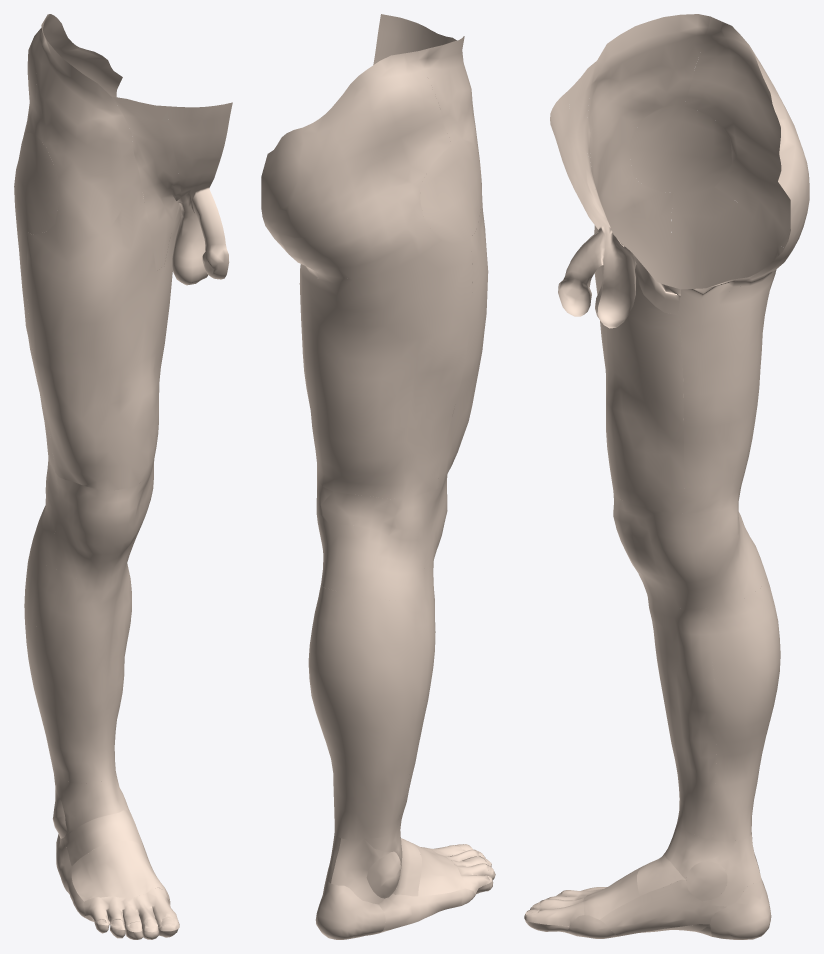
Rendered from skin.glb.
The picture shows the model from 3 angles, left to right: view 1: azimuth 30°, elevation 25°; view 2: azimuth 150°, elevation 25°; view 3: azimuth 270°, elevation 25°; orthographic projection. The views are drawn at different scales.
Parts seen in each view (by area): view 1: Anterior region of thigh.r.001, Anterior region of leg.r.001, Anterior region of knee.r.001, Hypogastric region.r.001, Urogenital region.r.001, Metatarsal region.r.001, Hip region.r.001, Gluteal region.r.001, Inguinal region.r.001, Dorsal surfaces of digits of foot.r.001, Anterior region of ankle.r.001, Femoral triangle.r.001 (+6 smaller); view 2: Posterior region of thigh.r.001, Gluteal region.r.001, Posterior region of leg.r.001, Posterior region of knee.r.001, Anterior region of thigh.r.001, Hip region.r.001, Heel region.r.001, Popliteal fossa.r.001, Lateral retromalleolar region.r.001, Lateral border of foot.r.001, Hypogastric region.r.001, Metatarsal region.r.001 (+6 smaller); view 3: Anterior region of thigh.r.001, Posterior region of thigh.r.001, Gluteal region.r.001, Posterior region of leg.r.001, Anterior region of leg.r.001, Hip region.r.001, Urogenital region.r.001, Anterior region of knee.r.001, Posterior region of knee.r.001, Medial border of foot.r.001, Heel region.r.001, Inguinal region.r.001 (+9 smaller).
Part boxes in pixels (box(x1,y1,x2,y2)): Anterior region of thigh.r.001: box(27, 26, 181, 490); Anterior region of leg.r.001: box(36, 557, 131, 783); Anterior region of knee.r.001: box(47, 460, 154, 580); Hypogastric region.r.001: box(167, 102, 232, 197); Urogenital region.r.001: box(172, 187, 229, 285); Metatarsal region.r.001: box(71, 840, 165, 901); Hip region.r.001: box(14, 133, 60, 234); Gluteal region.r.001: box(14, 14, 122, 183); Inguinal region.r.001: box(112, 96, 180, 200); Dorsal surfaces of digits of foot.r.001: box(83, 887, 179, 932); Anterior region of ankle.r.001: box(54, 771, 129, 835); Femoral triangle.r.001: box(132, 133, 179, 270); Posterior region of thigh.r.001: box(299, 237, 472, 499); Gluteal region.r.001: box(261, 51, 451, 279); Posterior region of leg.r.001: box(308, 584, 428, 839); Posterior region of knee.r.001: box(316, 476, 435, 600); Anterior region of thigh.r.001: box(418, 36, 488, 489); Hip region.r.001: box(420, 139, 481, 243); Heel region.r.001: box(315, 878, 385, 939); Popliteal fossa.r.001: box(321, 491, 395, 535); Lateral retromalleolar region.r.001: box(331, 838, 390, 904); Lateral border of foot.r.001: box(378, 888, 474, 930); Hypogastric region.r.001: box(373, 14, 431, 64); Metatarsal region.r.001: box(408, 841, 465, 896); Anterior region of thigh.r.001: box(588, 14, 710, 513); Posterior region of thigh.r.001: box(671, 187, 777, 513); Gluteal region.r.001: box(684, 16, 809, 281); Posterior region of leg.r.001: box(705, 572, 780, 841); Anterior region of leg.r.001: box(647, 595, 716, 839); Hip region.r.001: box(629, 105, 731, 193); Urogenital region.r.001: box(558, 225, 680, 328); Anterior region of knee.r.001: box(613, 491, 704, 609); Posterior region of knee.r.001: box(684, 488, 765, 608); Medial border of foot.r.001: box(600, 879, 726, 936); Heel region.r.001: box(710, 878, 771, 939); Inguinal region.r.001: box(567, 61, 610, 227).
Size of the model in its own units: 0.1819 by 1.02 by 0.294.
